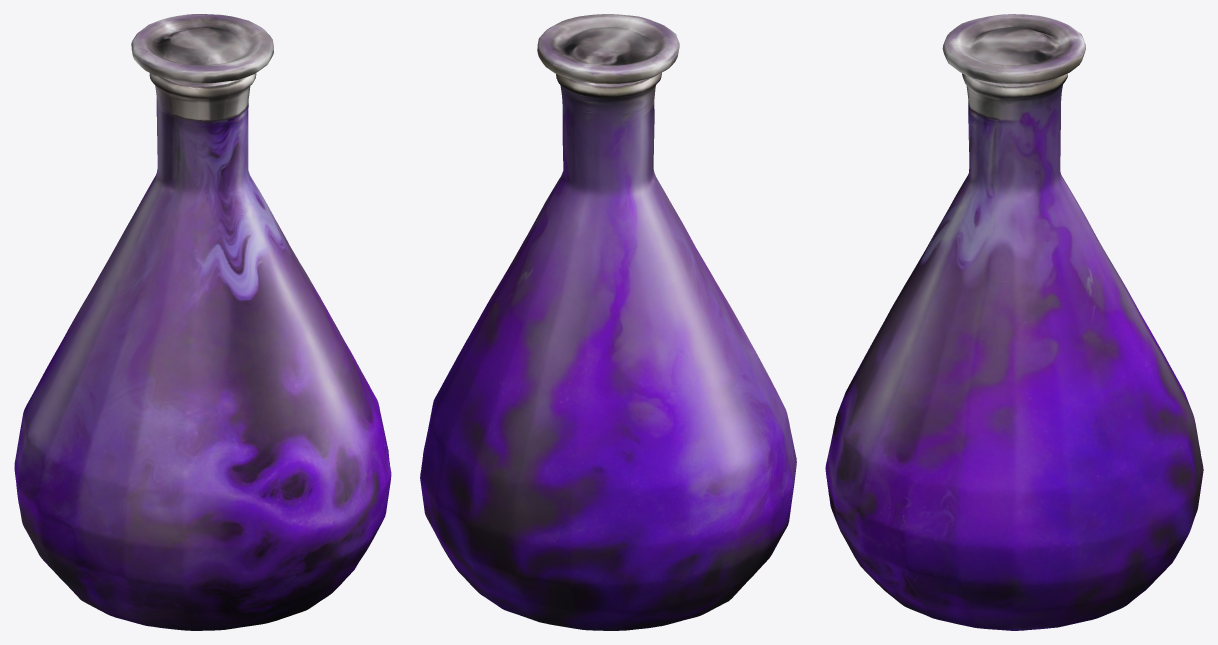
The picture shows the model from 3 angles, left to right: view 1: azimuth 30°, elevation 25°; view 2: azimuth 150°, elevation 25°; view 3: azimuth 270°, elevation 25°; orthographic projection.
Parts seen in each view (by area): view 1: Mesh1.0; view 2: Mesh1.0; view 3: Mesh1.0.
Part boxes in pixels (box(x1,y1,x2,y2)): Mesh1.0: box(14, 14, 391, 630); Mesh1.0: box(420, 14, 796, 630); Mesh1.0: box(825, 14, 1203, 630).
Bounding box in the file's own units: 128 × 200 × 127.
1 material, 1 textured.
